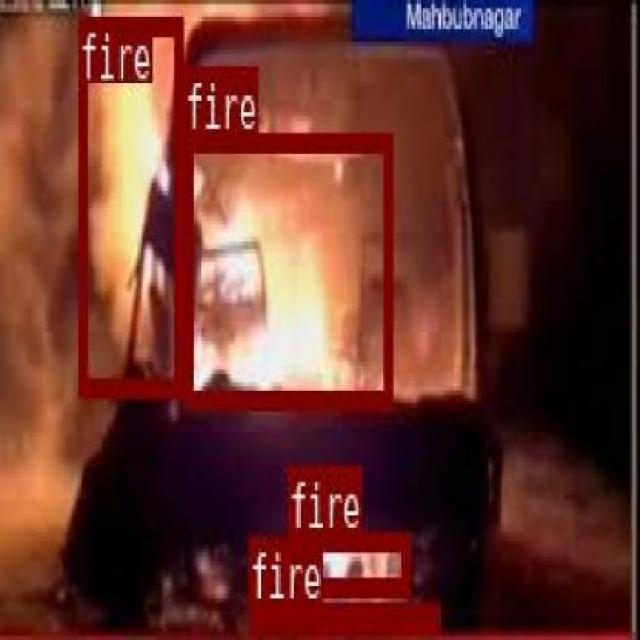Fire: (182, 128, 392, 407), (78, 14, 180, 393), (286, 532, 408, 594), (248, 602, 437, 630)
